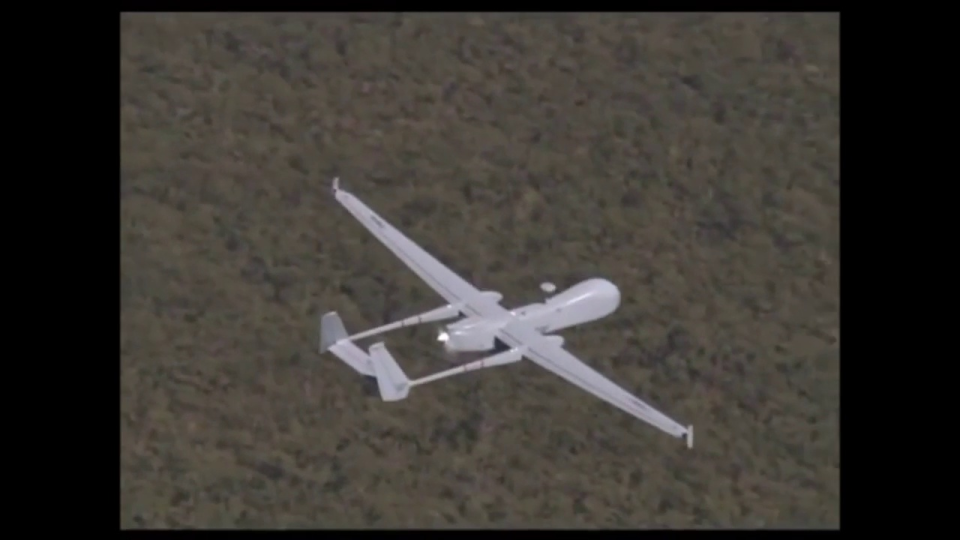military drone: (318, 175, 694, 448)
